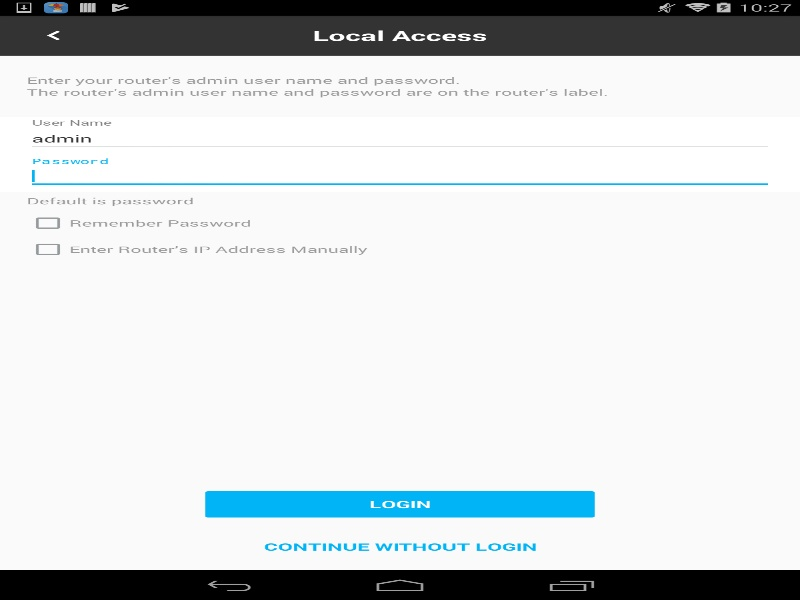Button: (200, 487, 600, 521), (200, 530, 600, 563), (10, 15, 96, 55)
Input: (26, 125, 773, 152), (26, 164, 773, 189)
